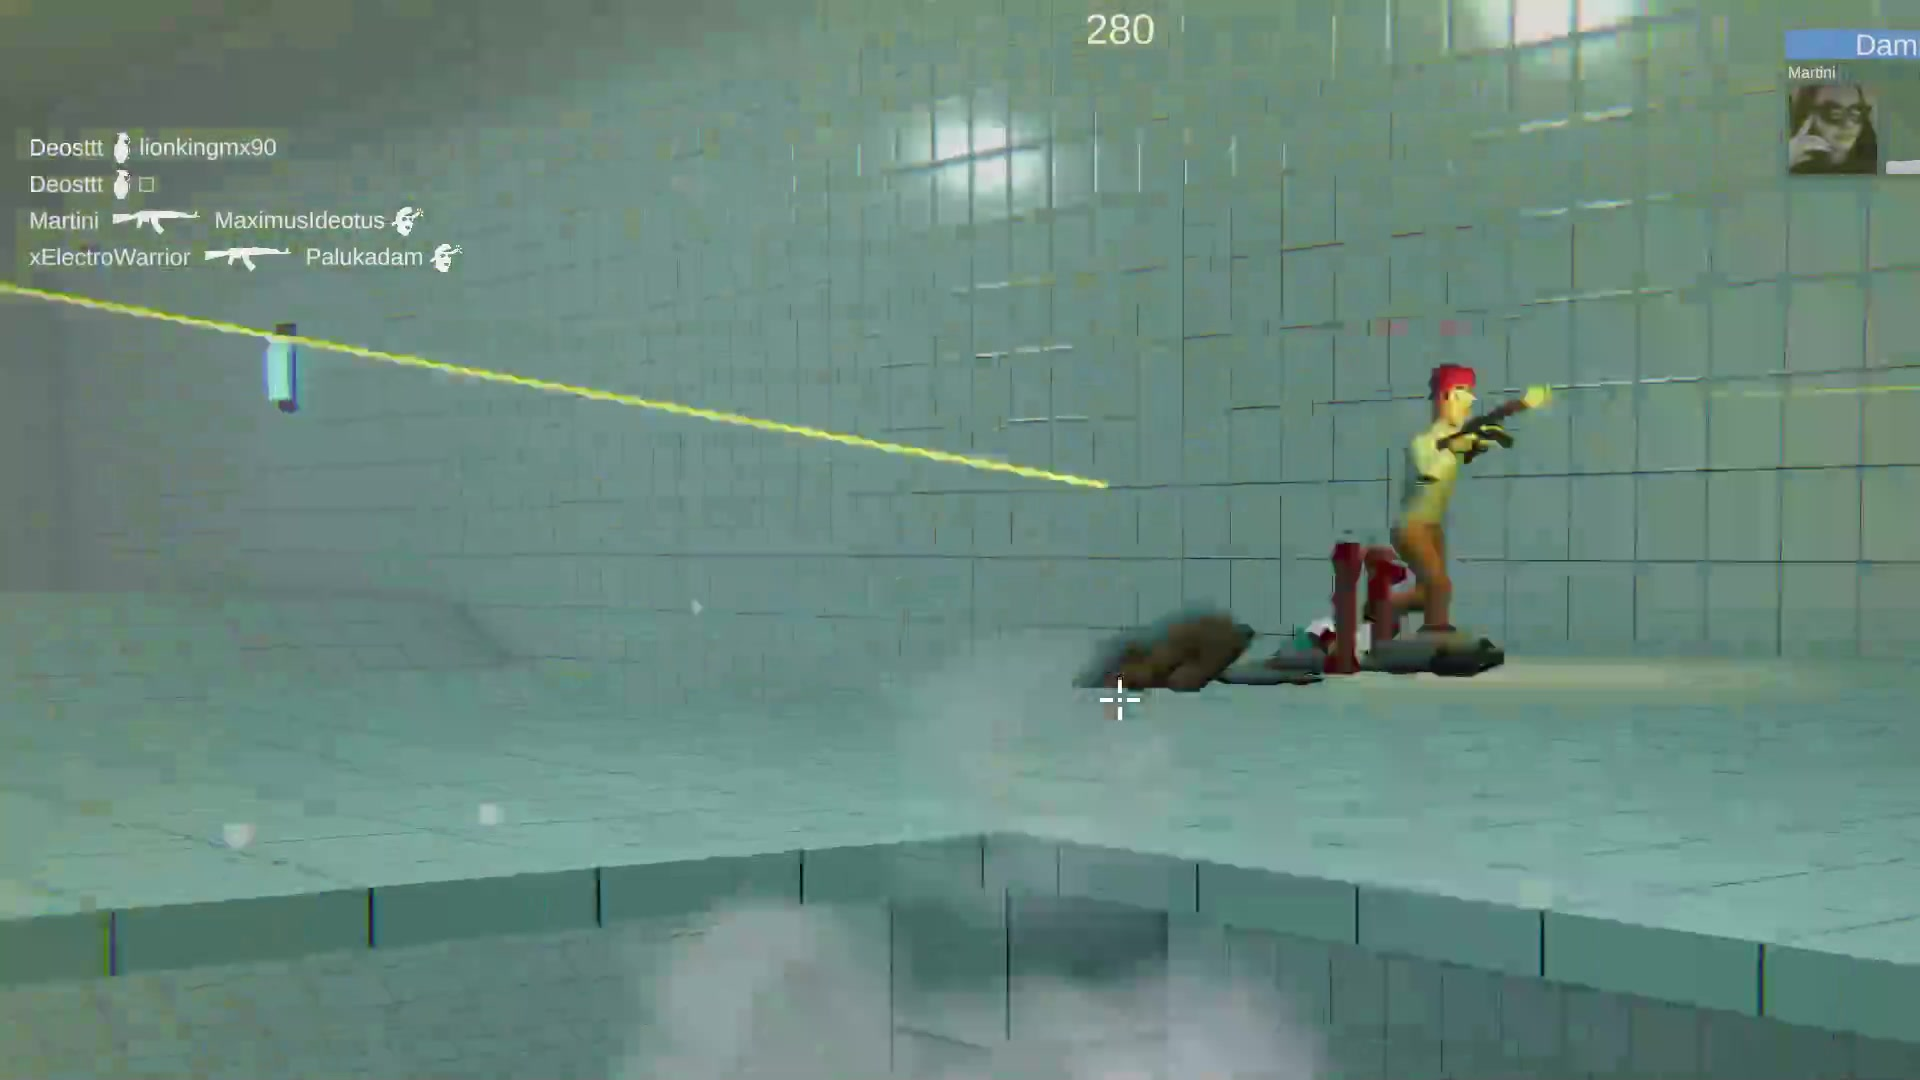human: (1363, 325, 1517, 630)
